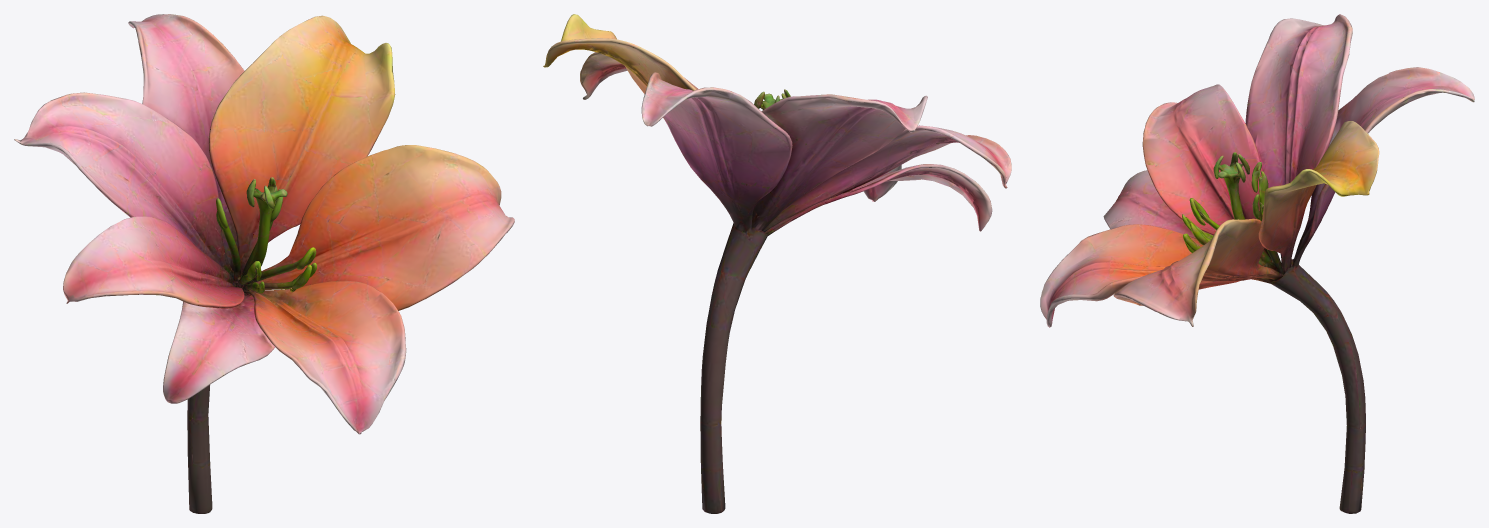
3 views of the same model, side by side, from view 1: azimuth 30°, elevation 25°; view 2: azimuth 150°, elevation 25°; view 3: azimuth 270°, elevation 25° (orthographic). The views are drawn at different scales.
Bounding box in the file's own units: 1.98 × 2 × 1.82.
Materials: 1 (1 with a texture image).
